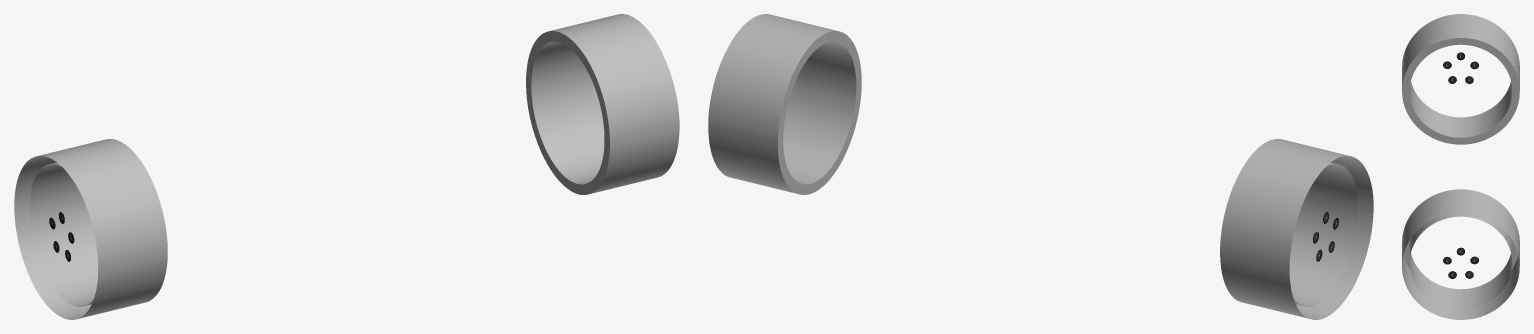
File: wheel_fl.glb
3 renders of one model, left to right at view 1: azimuth 30°, elevation 25°; view 2: azimuth 150°, elevation 25°; view 3: azimuth 270°, elevation 25°, orthographic. The views are drawn at different scales.
Visible parts, largest first — view 1: 68_hub_black_metal_fm_chrome_0; view 2: 68_hub_black_metal_fm_chrome_0; view 3: 68_hub_black_metal_fm_chrome_0, 70_hub_map_c_fm_tyre_0.
Boxes of the visible parts, x1,y1,x2,y2 form: 68_hub_black_metal_fm_chrome_0: [14, 14, 679, 319]; 68_hub_black_metal_fm_chrome_0: [708, 14, 1373, 319]; 68_hub_black_metal_fm_chrome_0: [1402, 14, 1519, 319]; 70_hub_map_c_fm_tyre_0: [1443, 52, 1478, 278].
Bounding box in the file's own units: 1.67 × 0.4187 × 0.4182.
2 materials, 1 textured.
